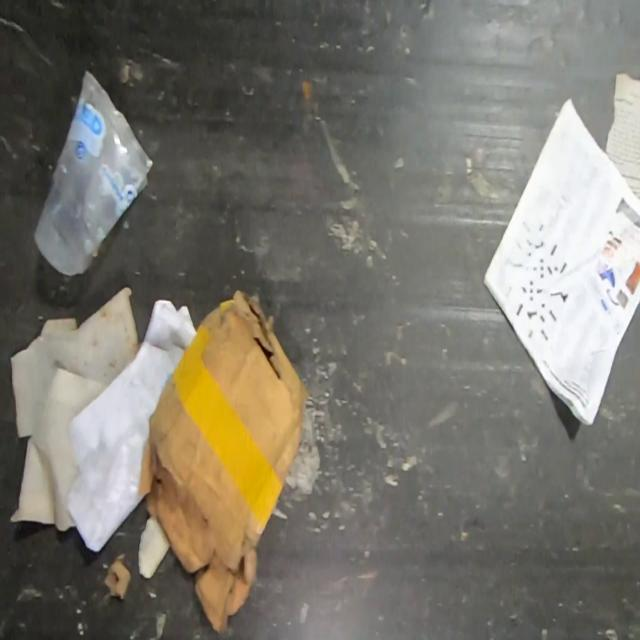cardboard: (136, 288, 311, 637), (103, 558, 132, 601)
rigid_plastic: (31, 67, 154, 278)
